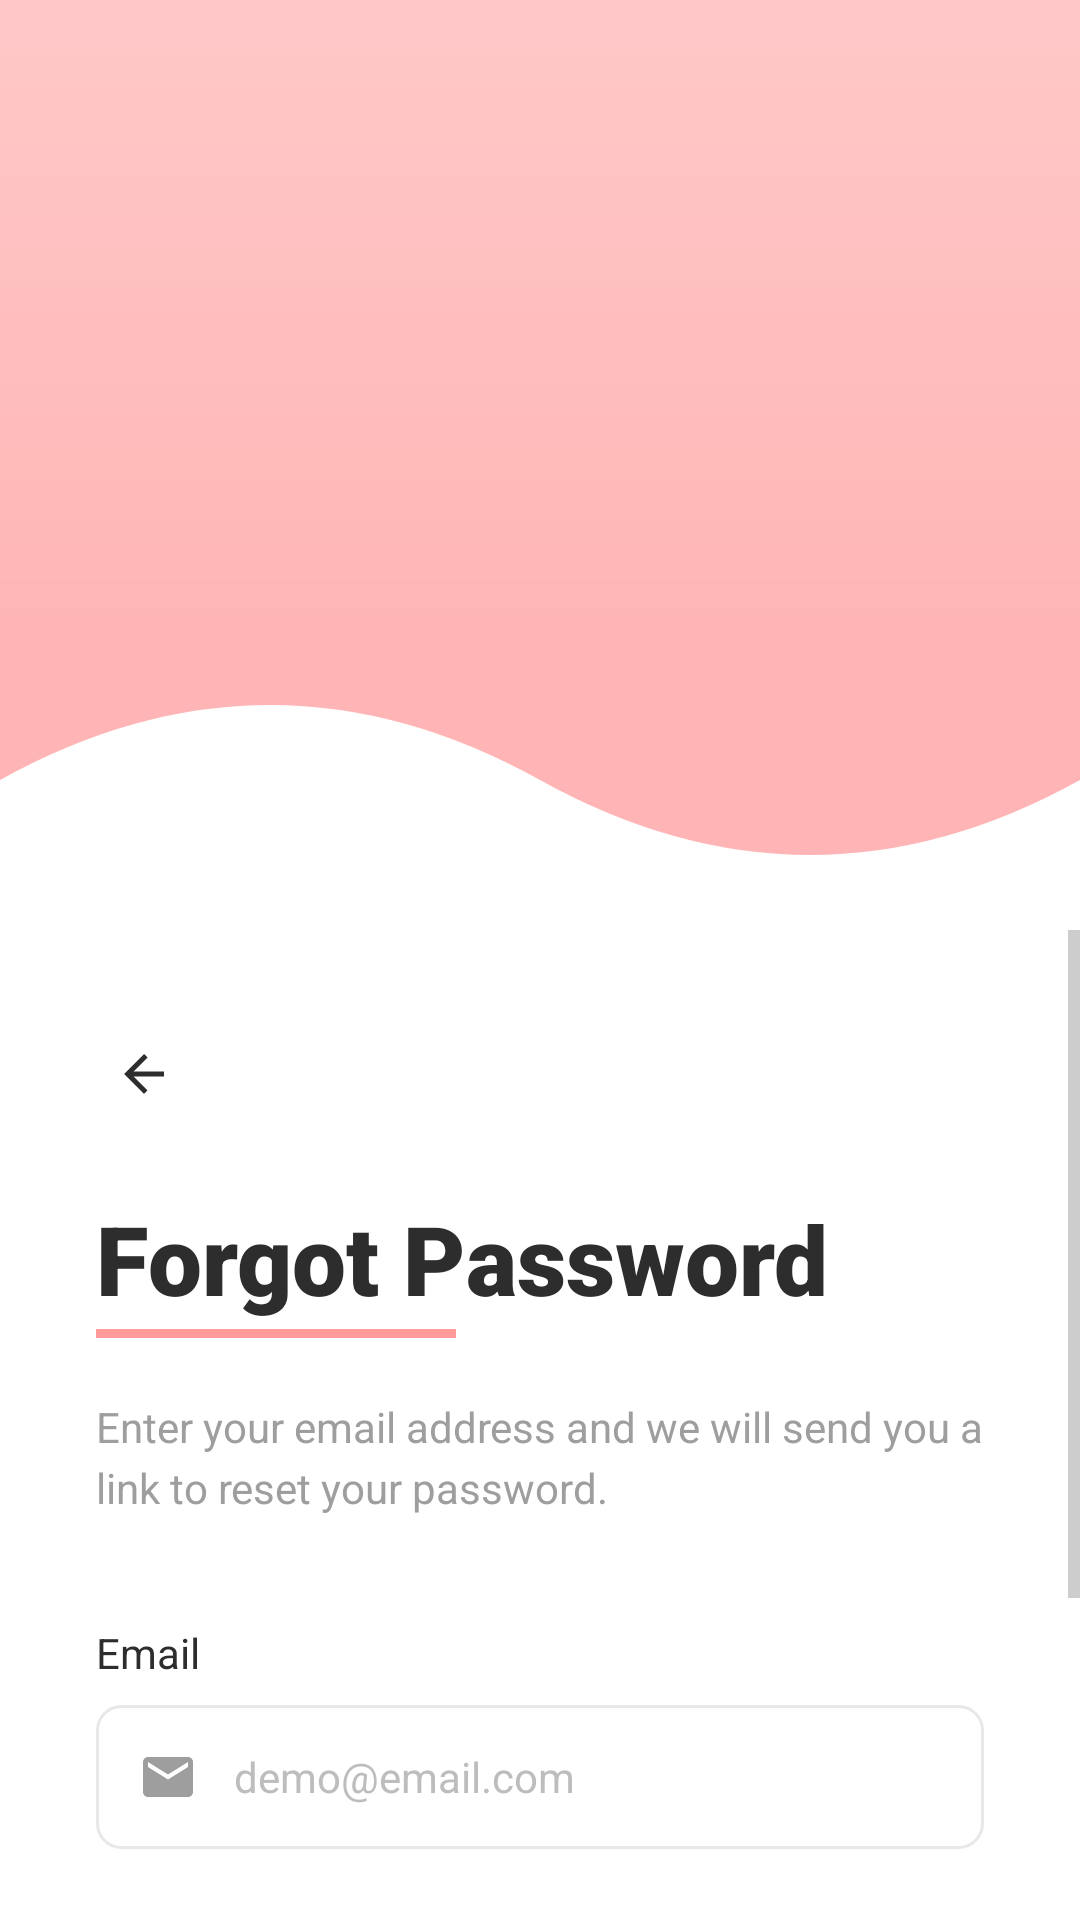

Icon bounding boxes for this 1080x1920 phone screenshot, format {"left": x1, "top": y1, "right": x2, "bottom": y2}:
arrow back: {"left": 124, "top": 1054, "right": 164, "bottom": 1094}
